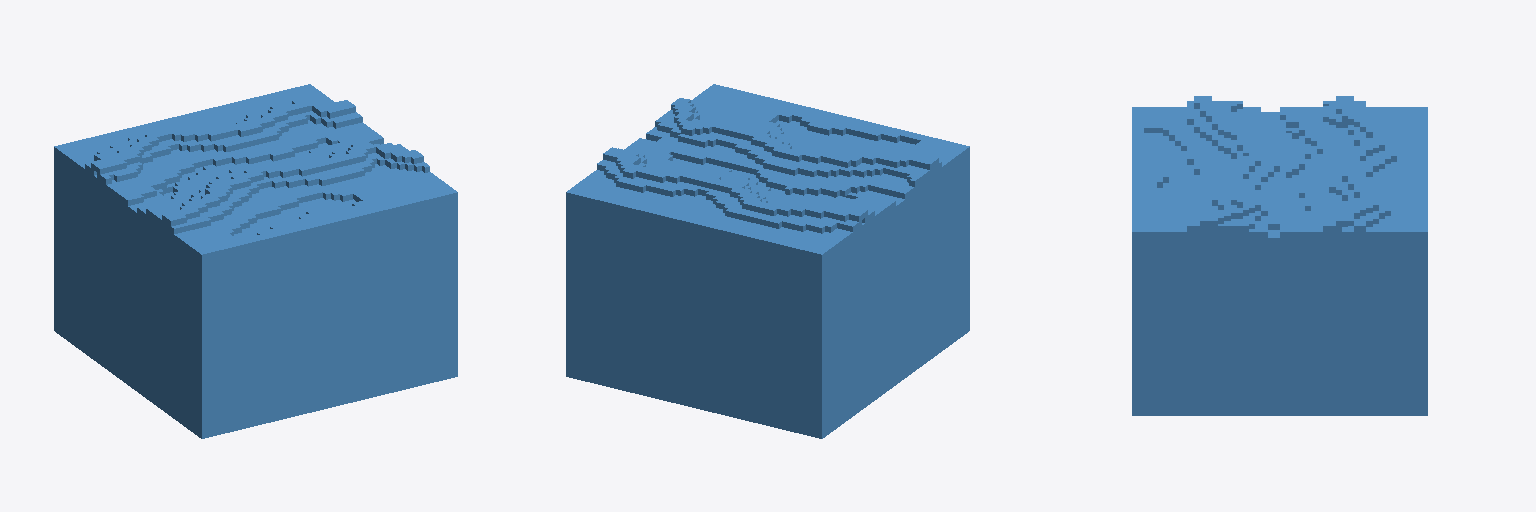
3 renders of one model, left to right at view 1: azimuth 30°, elevation 25°; view 2: azimuth 150°, elevation 25°; view 3: azimuth 270°, elevation 25°, orthographic.
Parts seen in each view (by area): view 1: object 1; view 2: object 1; view 3: object 1.
Part boxes in pixels (left/top/right/bottom): object 1: left=54, top=84, right=457, bottom=438; object 1: left=566, top=84, right=969, bottom=438; object 1: left=1132, top=96, right=1427, bottom=415.
Size of the model in its own units: 4.8 by 3.5 by 4.8.
1 materials, 1 textured.